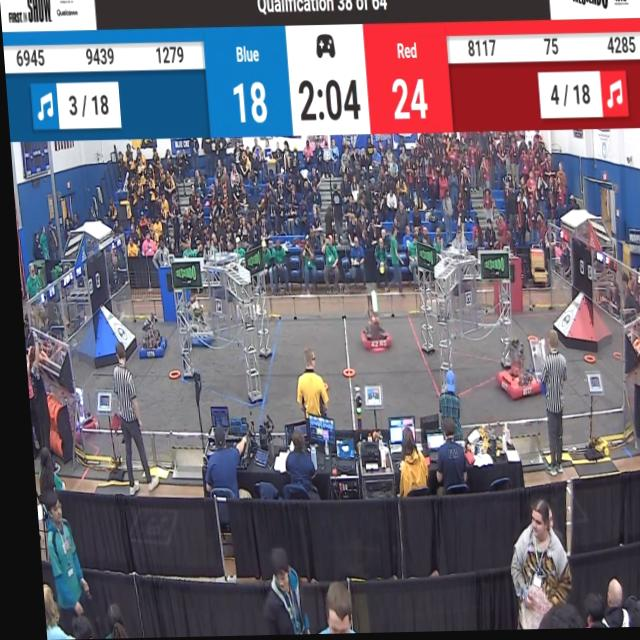Robot: (483, 333, 531, 407), (179, 289, 213, 351), (63, 379, 96, 442), (352, 307, 389, 359), (516, 339, 545, 399), (131, 314, 163, 365)
